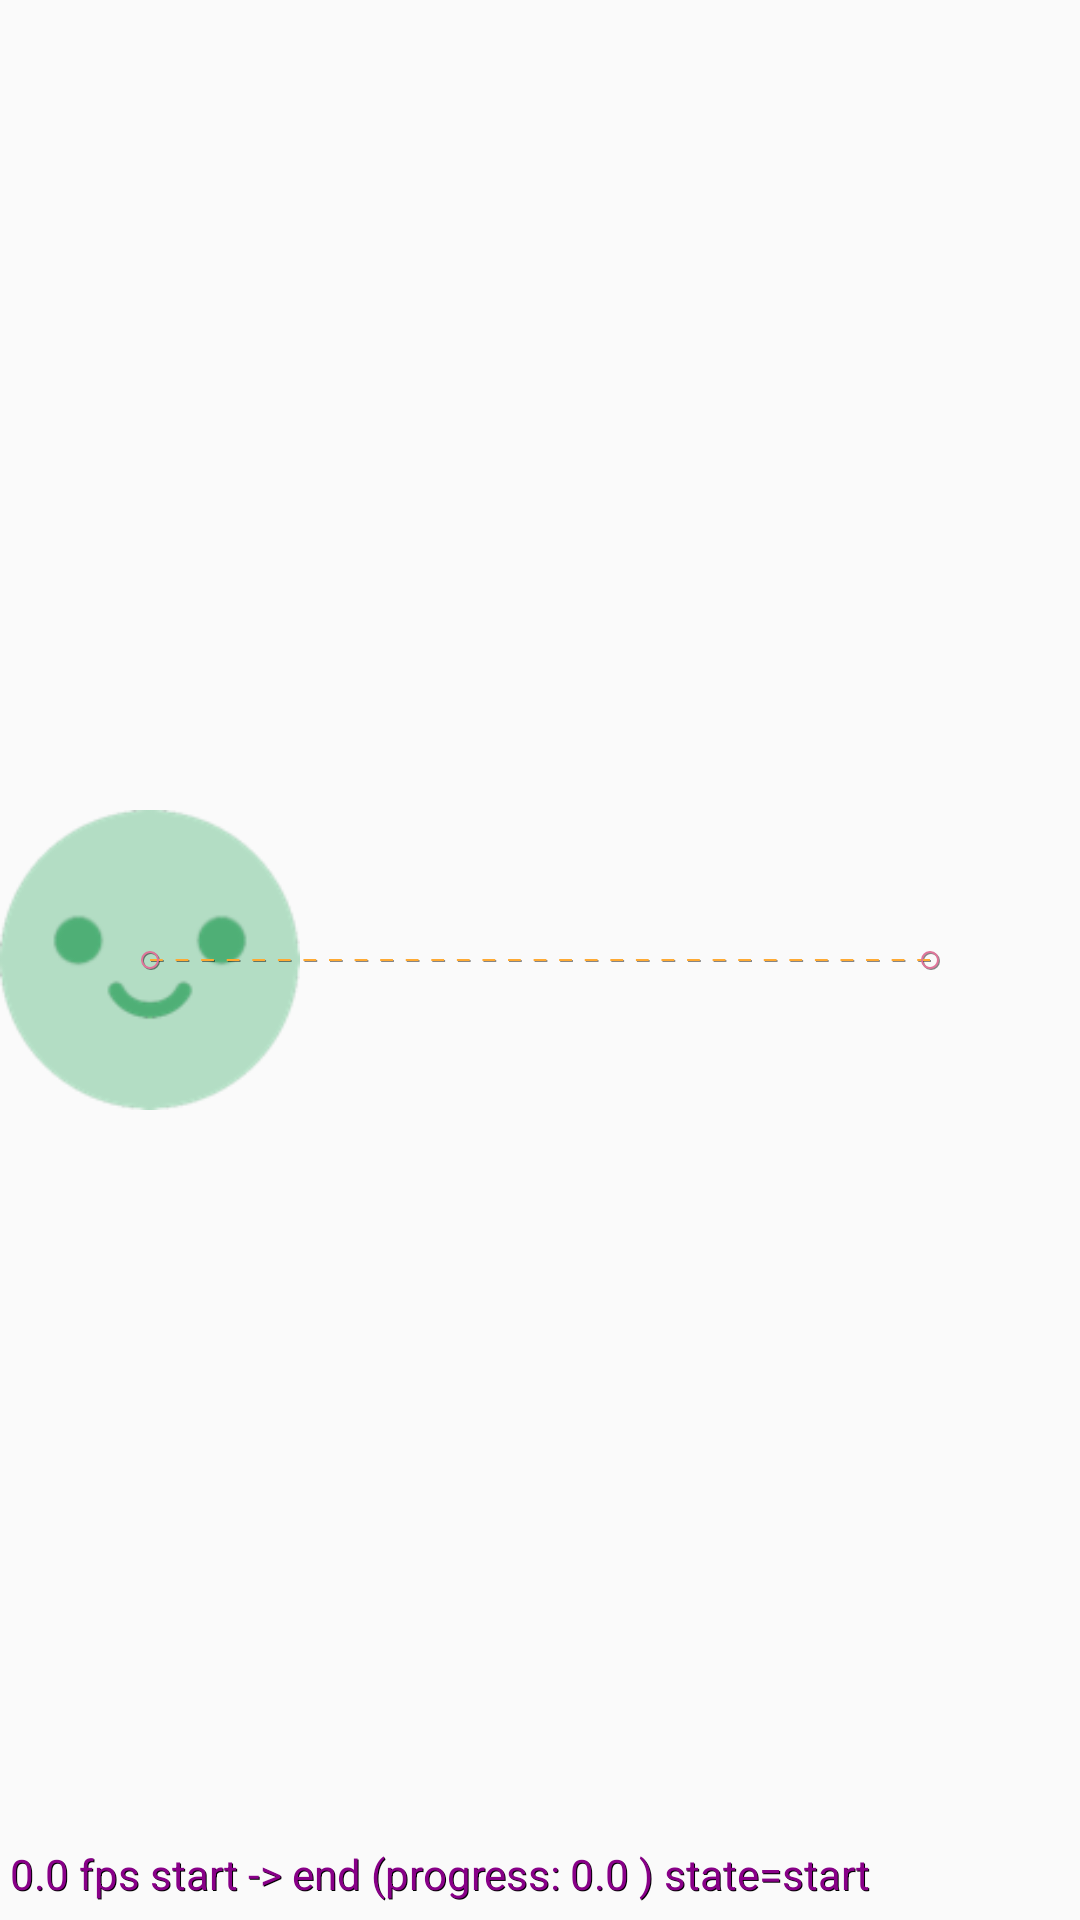

Locate icon controls on the screen. Image size 1080*1920, boxes as (x1, y1, x2, y2).
yesil: (0, 810, 300, 1110)
